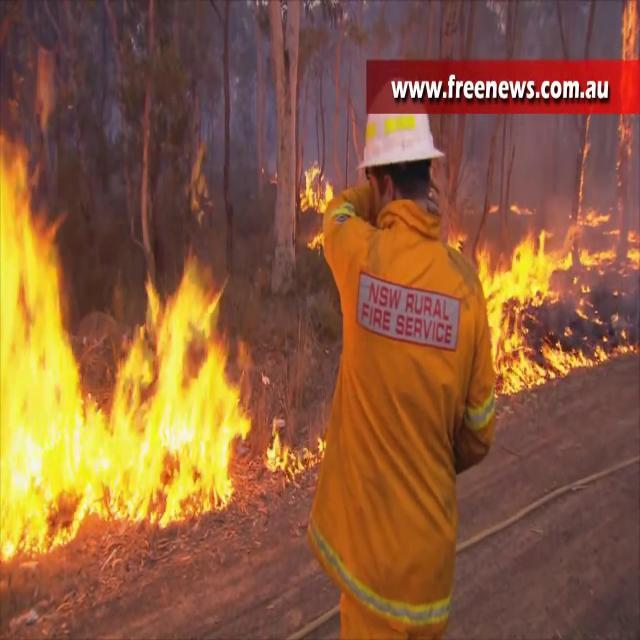Fire: (0, 131, 252, 563), (476, 208, 640, 398), (267, 418, 327, 485), (300, 161, 334, 257)
